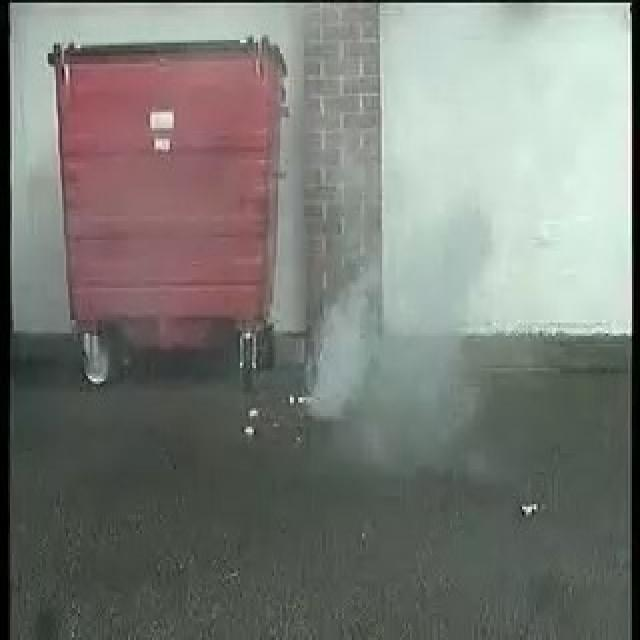smoke: (297, 221, 482, 428)
